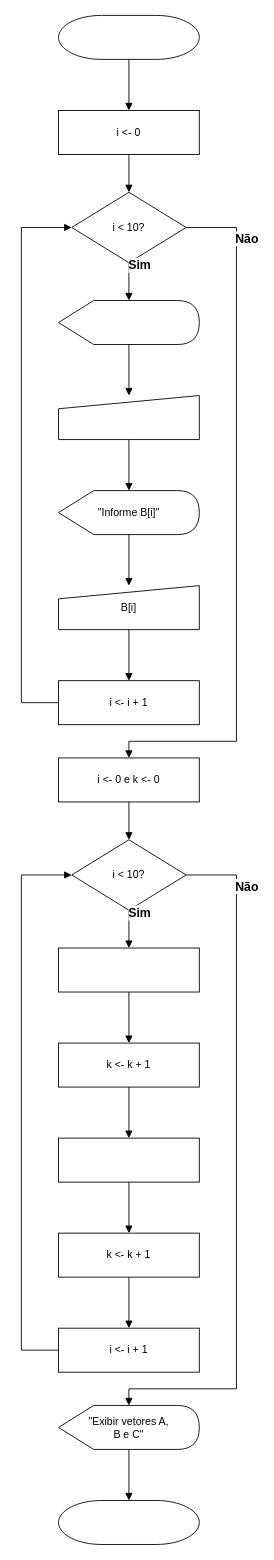
Image size: 274x1560. Some labels were removed from this diagram. The centre of each missing label's shape, as x and y in pixels:
"Informe A[i]": pixel 128 322
A[i]: pixel 128 417
C[k] <- A[i]: pixel 128 969
C[k] <- B[i]: pixel 128 1159
Fim: pixel 128 1522
Início: pixel 128 37
